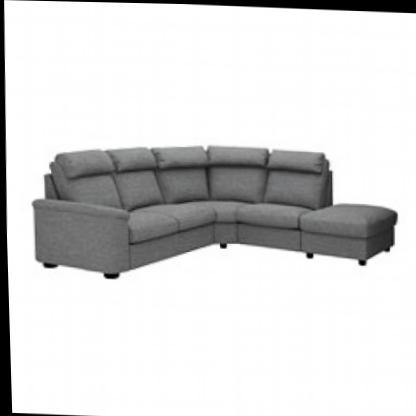Sofa: (17, 133, 409, 293)
